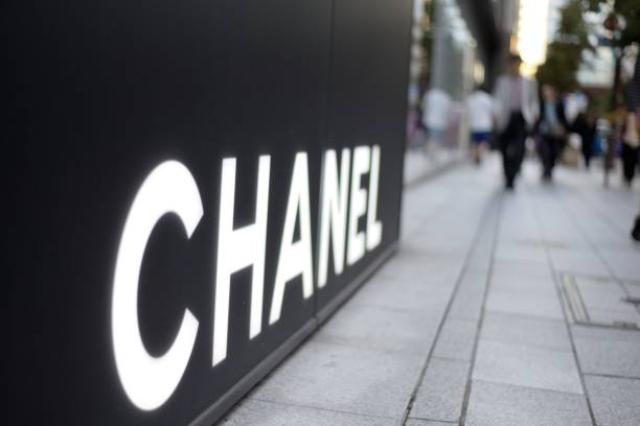Chanel: (80, 127, 395, 426)
